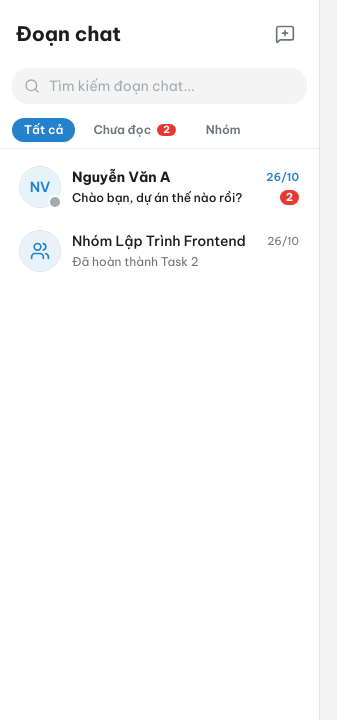
Test: ConversationSidebar Component Tests › filters conversation list when typing into search bar and clears query on click
The image size is (337, 720).
Type "Frontend" into the field with placeholder "Tìm kiếm đoạn chat...". click: (160, 86)
box: [12,68,307,104]
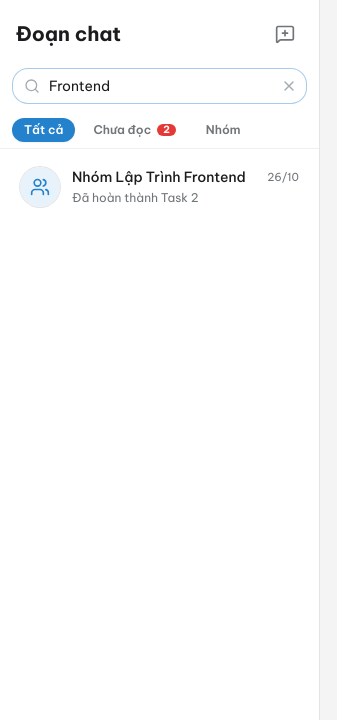
Expected: the heading "Nhóm Lập Trình Frontend" is shown, [72,168,246,188]
Result: the option "Nguyễn Văn A" is gone
Note: Clear search
Click the button named "Xóa tìm kiếm". click: (289, 86)
box: [281,78,297,94]
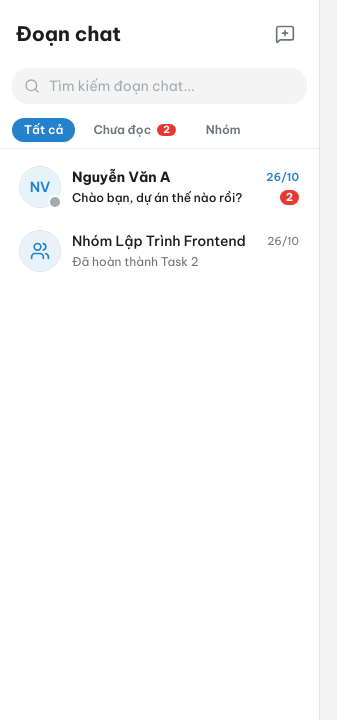
Expected: the heading "Nhóm Lập Trình Frontend" is shown, [72,232,246,252]
Result: the heading "Nguyễn Văn A" is shown at [72,168,170,188]
